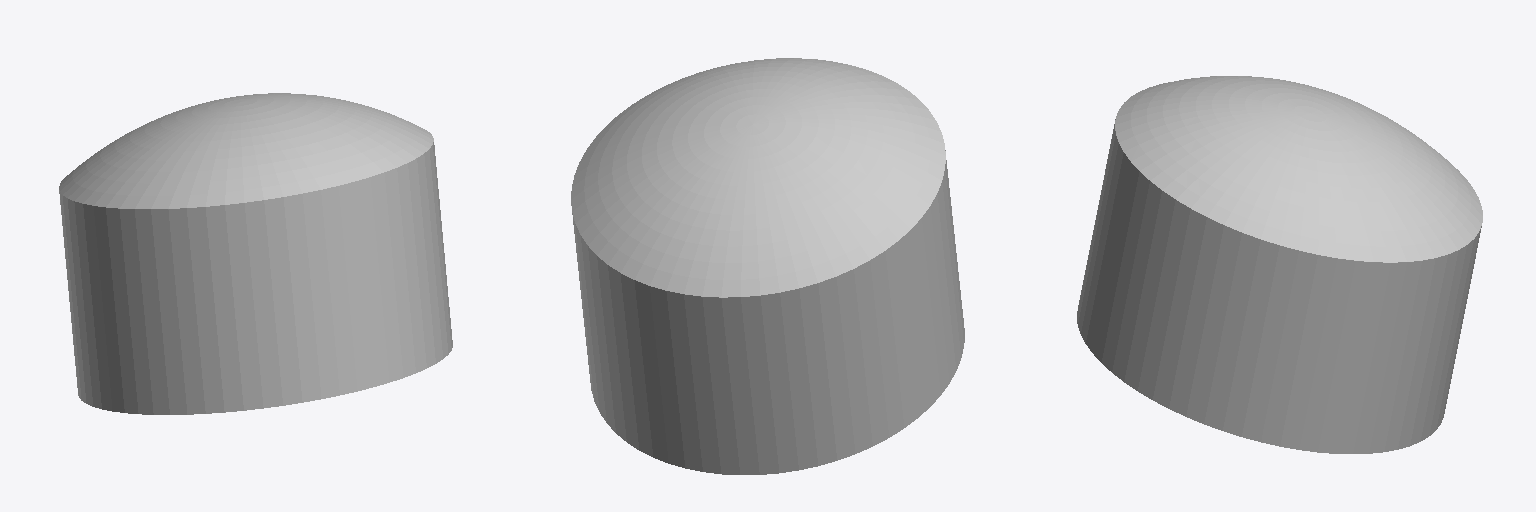
Rendered from original-6.obj.
The picture shows the model from 3 angles: view 1: azimuth 30°, elevation 25°; view 2: azimuth 150°, elevation 25°; view 3: azimuth 270°, elevation 25°; orthographic projection.
Parts seen in each view (by area): view 1: instance_2/Group_12/ID21#ID21; view 2: instance_2/Group_12/ID21#ID21; view 3: instance_2/Group_12/ID21#ID21.
Boxes of the visible parts, x1,y1,x2,y2 form: instance_2/Group_12/ID21#ID21: [59, 93, 452, 414]; instance_2/Group_12/ID21#ID21: [571, 58, 964, 474]; instance_2/Group_12/ID21#ID21: [1077, 76, 1482, 453].
Bounding box in the file's own units: 0.0403 × 0.0358 × 0.0434.